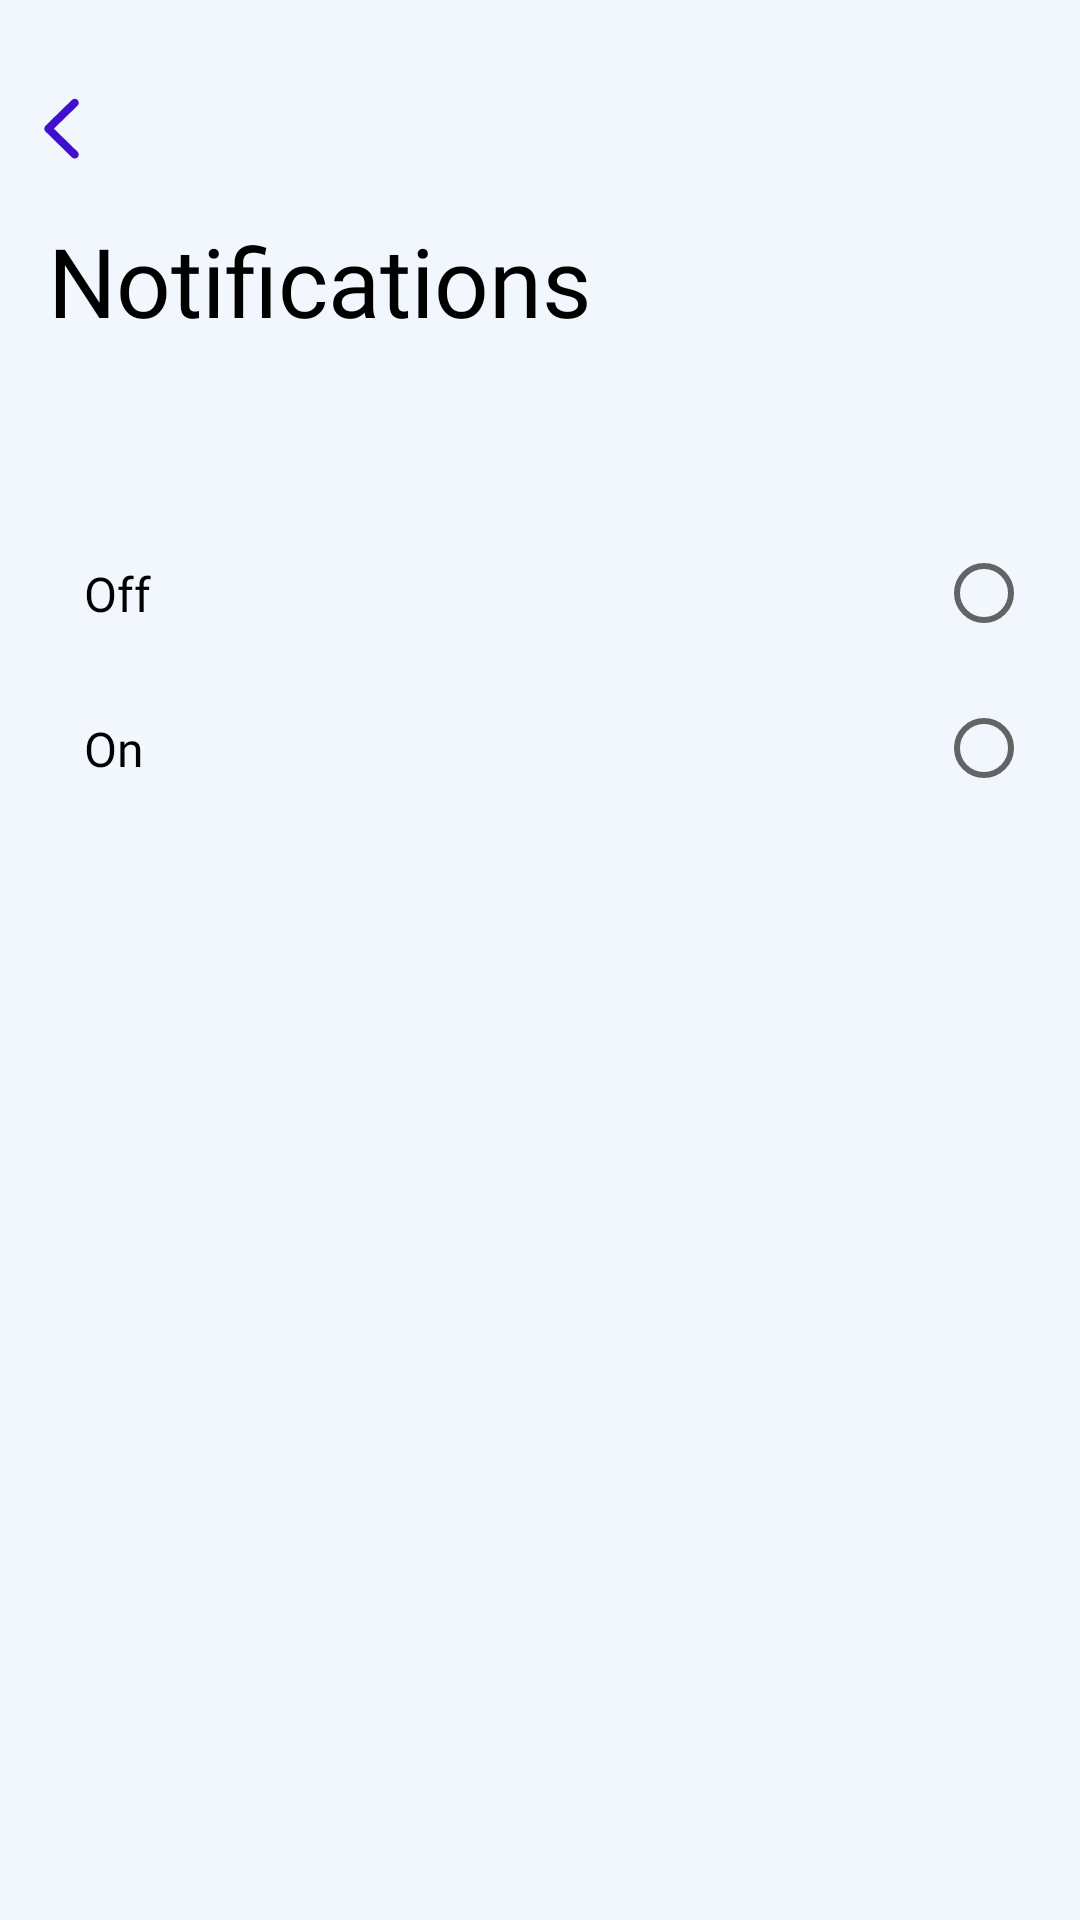

Named icons in this screenshot (1080*1920) and their bounding boxes, [x1, y1, x2, y2]:
chevron left: [44, 98, 79, 159]
